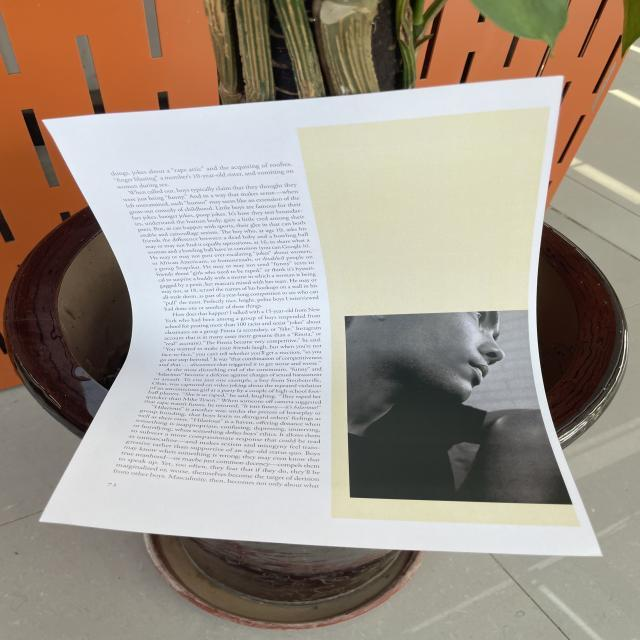document: (42, 78, 600, 556)
